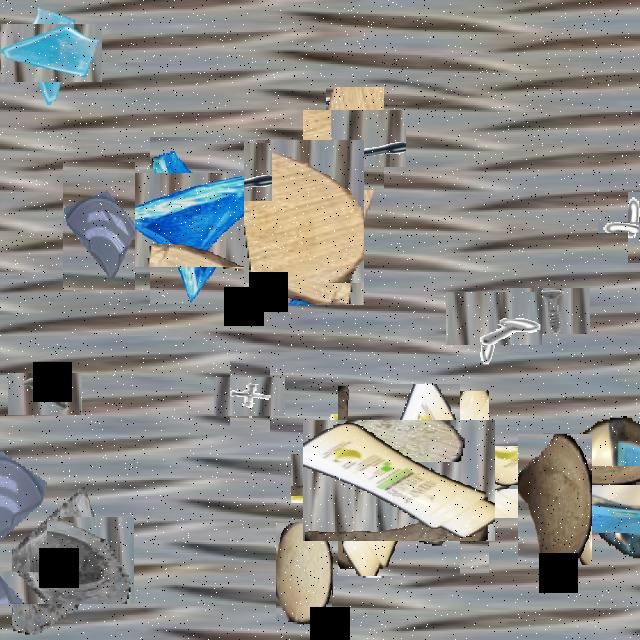glass: (132, 155, 262, 286), (0, 498, 117, 621), (63, 162, 135, 290), (0, 416, 47, 572), (11, 13, 91, 94)
metal: (315, 98, 395, 179), (456, 280, 532, 356), (517, 279, 581, 343), (16, 365, 74, 424), (222, 369, 278, 424), (613, 206, 640, 248)
plastic: (320, 402, 478, 558), (547, 440, 640, 558)
wood: (232, 150, 376, 294), (389, 419, 516, 545), (518, 434, 592, 565), (310, 433, 400, 522), (276, 523, 332, 622)
